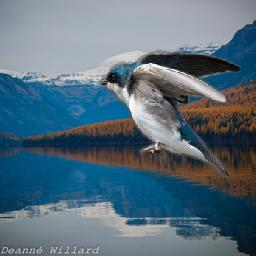Swallow: (99, 50, 242, 179)
